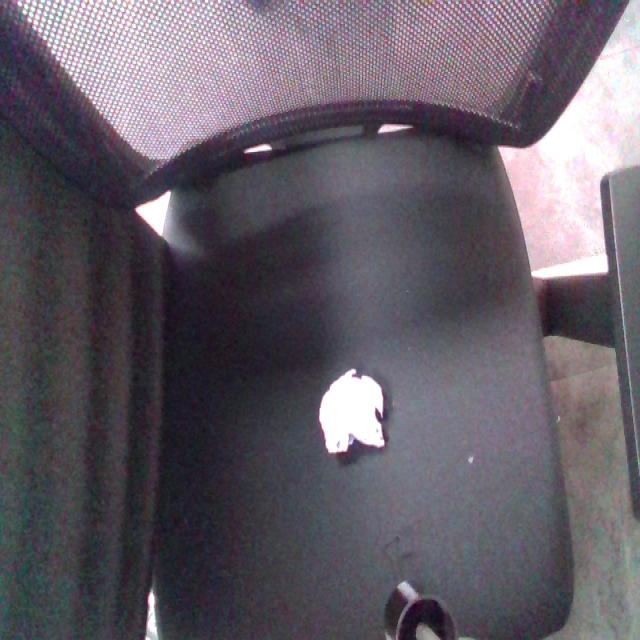paper: (309, 354, 403, 472)
